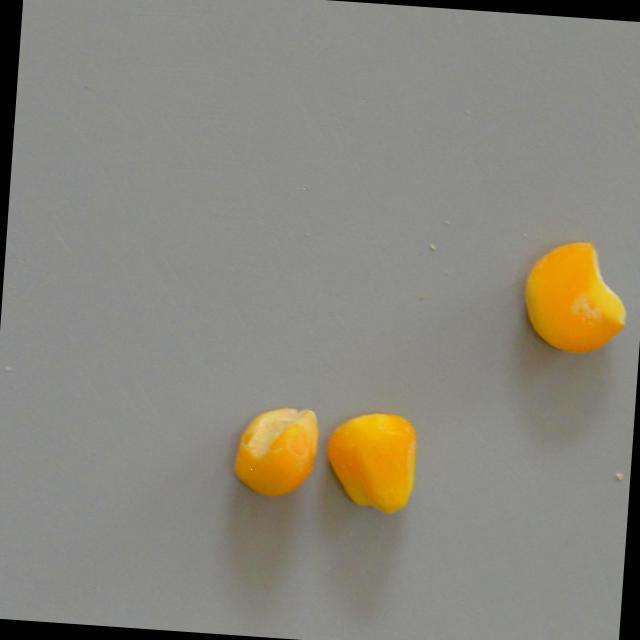dañado: (227, 402, 322, 503)
no_canjicado: (512, 237, 636, 368), (320, 408, 421, 515)
